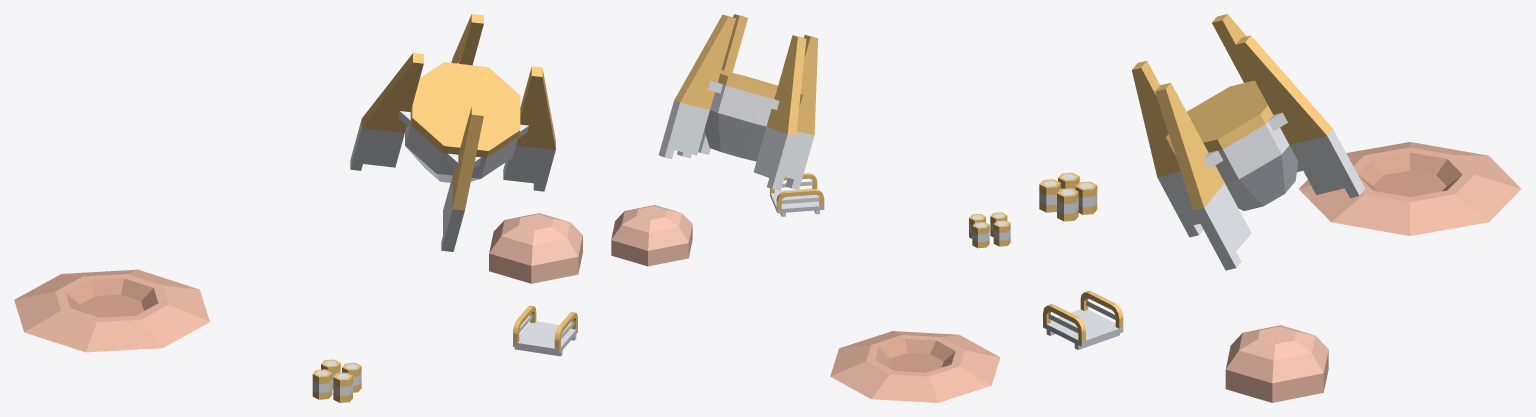
The model's file is poi_crashed_freighter.glb.
The picture shows the model from 3 angles, left to right: view 1: azimuth 30°, elevation 25°; view 2: azimuth 150°, elevation 25°; view 3: azimuth 270°, elevation 25°; orthographic projection. The views are drawn at different scales.
Parts seen in each view (by area): view 1: rocket_baseA.001, craterLarge.001, meteor_half.001, barrels_rail.001, barrel.015, barrel.014; view 2: rocket_baseA.001, craterLarge.001, meteor_half.001, barrels_rail.001, barrel.015, barrel.016; view 3: rocket_baseA.001, craterLarge.001, meteor_half.001, barrels_rail.001, barrel.013, barrel.016, barrel.014.
Part boxes in pixels (x1,y1,x2,y2): rocket_baseA.001: (350,14,555,251); craterLarge.001: (14,269,209,352); meteor_half.001: (489,213,582,283); barrels_rail.001: (513,305,577,356); barrel.015: (312,369,332,399); barrel.014: (333,372,352,402); rocket_baseA.001: (658,14,818,190); craterLarge.001: (830,331,1000,402); meteor_half.001: (611,205,692,266); barrels_rail.001: (770,173,824,216); barrel.015: (993,220,1010,246); barrel.016: (972,222,989,248); rocket_baseA.001: (1132,14,1365,270); craterLarge.001: (1299,142,1520,235); meteor_half.001: (1225,325,1328,402); barrels_rail.001: (1043,291,1123,349); barrel.013: (1057,188,1078,221); barrel.016: (1075,181,1097,214); barrel.014: (1039,179,1060,212).
Bounding box in the file's own units: 5.75 × 3.1 × 4.41.
